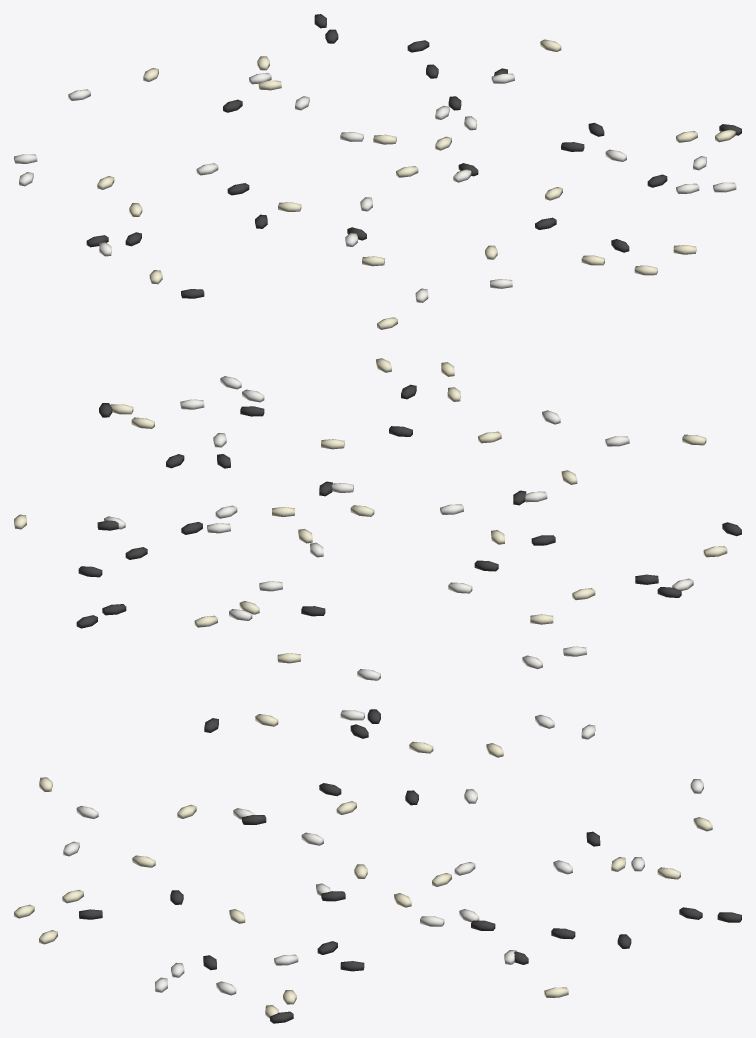
Rendered from glibettes_shells.fbx.
3 renders of one model, top to bottom at view 1: azimuth 30°, elevation 25°; view 2: azimuth 150°, elevation 25°; view 3: azimuth 270°, elevation 25°, orthographic. The views are drawn at different scales.
Parts seen in each view (by area): view 1: glibettes_shells; view 2: glibettes_shells; view 3: glibettes_shells.
Part boxes in pixels (box(x1,y1,x2,y2)): glibettes_shells: box(14, 14, 741, 329); glibettes_shells: box(14, 358, 741, 680); glibettes_shells: box(14, 709, 741, 1023).
Size of the model in its own units: 0.4231 by 0.006 by 0.4203.
